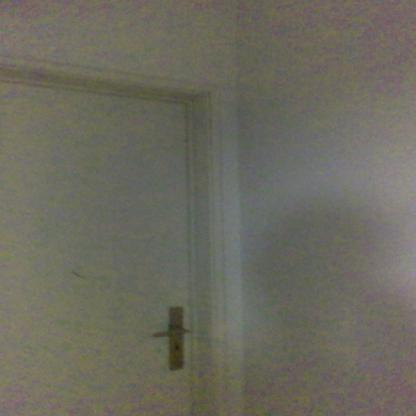door: (0, 76, 196, 416)
lever: (145, 326, 194, 342)
